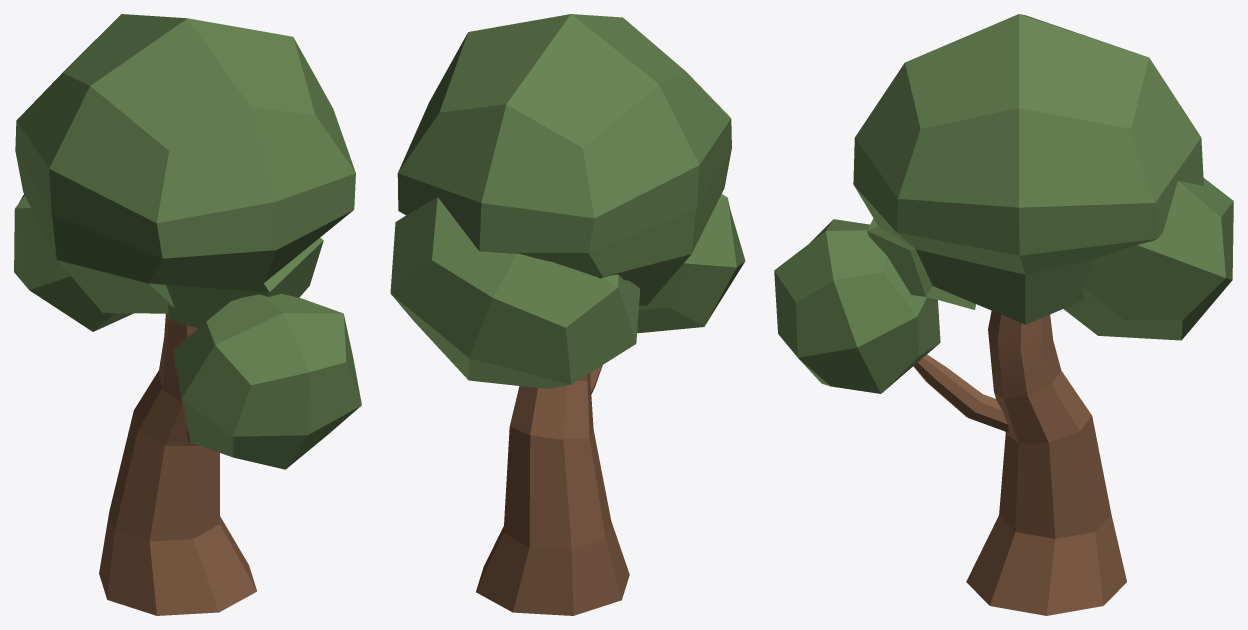
The model's file is atoll_DeciduousTree01.fbx.
3 renders of one model, left to right at view 1: azimuth 30°, elevation 25°; view 2: azimuth 150°, elevation 25°; view 3: azimuth 270°, elevation 25°, orthographic. The views are drawn at different scales.
Visible parts, largest first — view 1: pCube1, pCube3, pCylinder1, pCube2; view 2: pCube1, pCube2, pCylinder1, pCube3; view 3: pCube1, pCylinder1, pCube3, pCube2, pCylinder2.
Part boxes in pixels (box(x1,y1,x2,y2)): pCube1: box(15, 14, 355, 328); pCube3: box(173, 294, 361, 469); pCylinder1: box(99, 313, 256, 615); pCube2: box(14, 194, 133, 331); pCube1: box(397, 14, 731, 305); pCube2: box(390, 197, 640, 388); pCylinder1: box(476, 373, 629, 615); pCube3: box(637, 194, 745, 333); pCube1: box(853, 14, 1203, 324); pCylinder1: box(966, 311, 1126, 615); pCube3: box(774, 219, 940, 393); pCube2: box(1064, 178, 1233, 340); pCylinder2: box(913, 354, 1008, 432).
Bounding box in the file's own units: 52.5 × 103 × 75.71.
